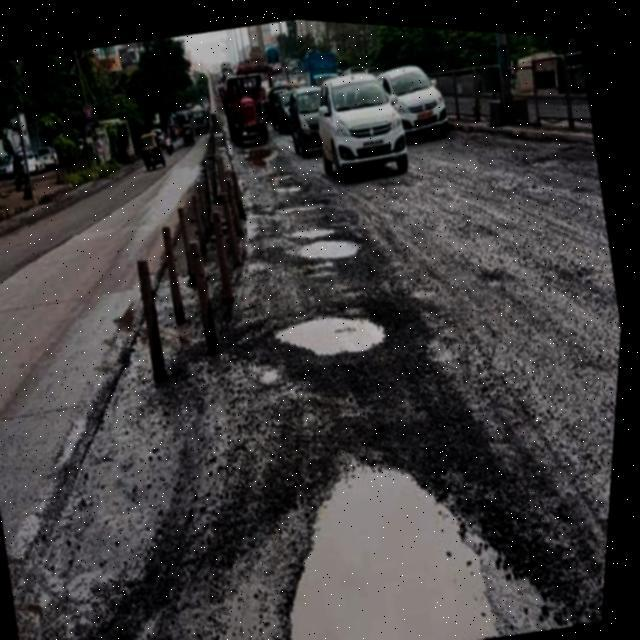pothole: (238, 403, 572, 640), (256, 278, 405, 373), (281, 204, 372, 273), (266, 180, 336, 219)
